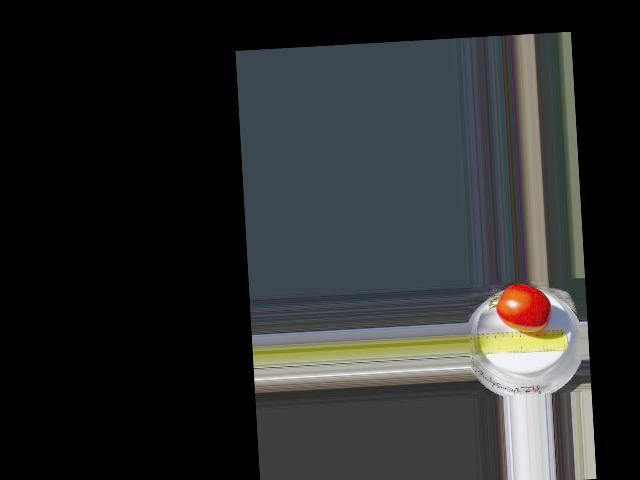tomato: (494, 281, 552, 335)
